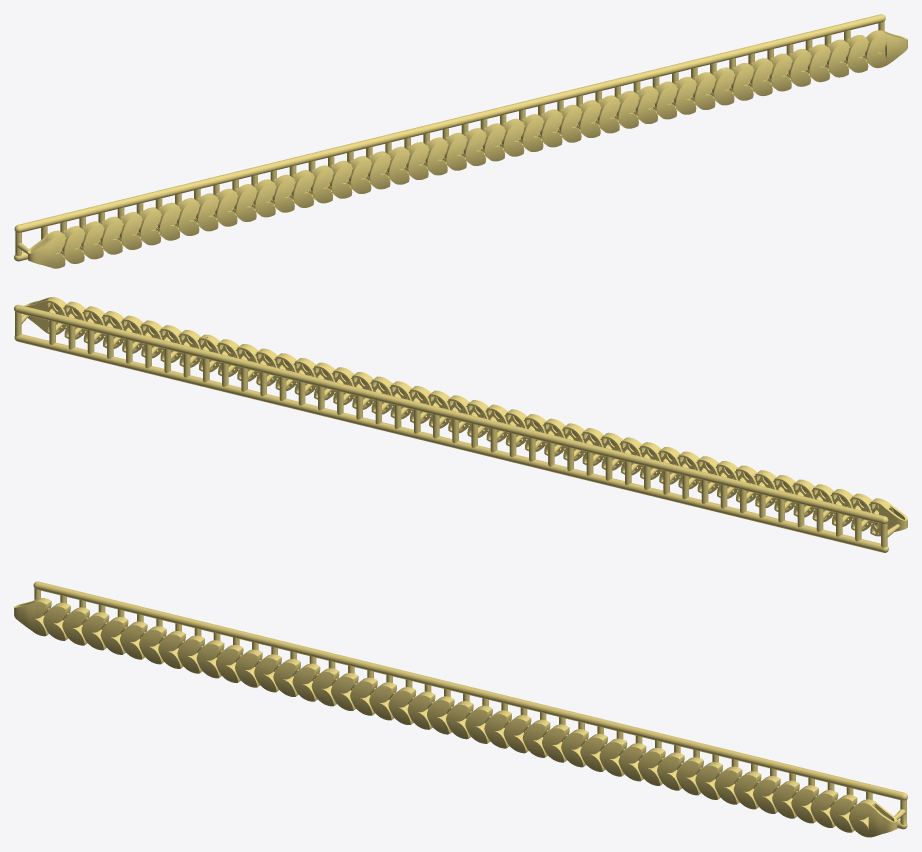
Rendered from yzn5-126_basak.glb.
3 views of the same model, one above another, from view 1: azimuth 30°, elevation 25°; view 2: azimuth 150°, elevation 25°; view 3: azimuth 330°, elevation 25° (orthographic).
Parts seen in each view (by area): view 1: Renderer Node; view 2: Renderer Node; view 3: Renderer Node.
Part boxes in pixels (x1,y1,x2,y2): Renderer Node: (14, 14, 907, 268); Renderer Node: (14, 297, 907, 552); Renderer Node: (14, 581, 907, 837).
Size of the model in its own units: 184 by 7.21 by 8.09.
